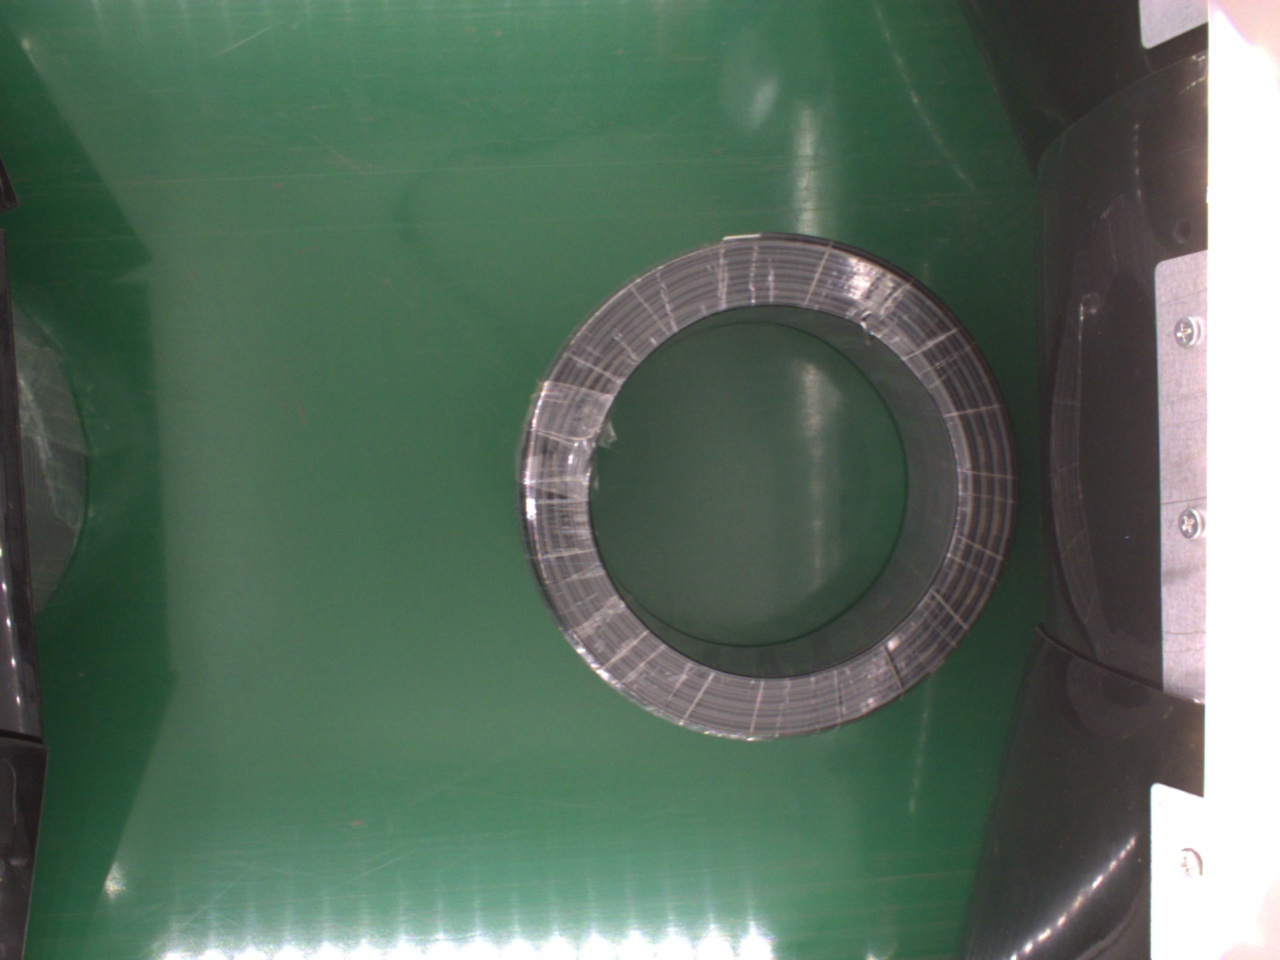black: (522, 231, 1013, 746)
